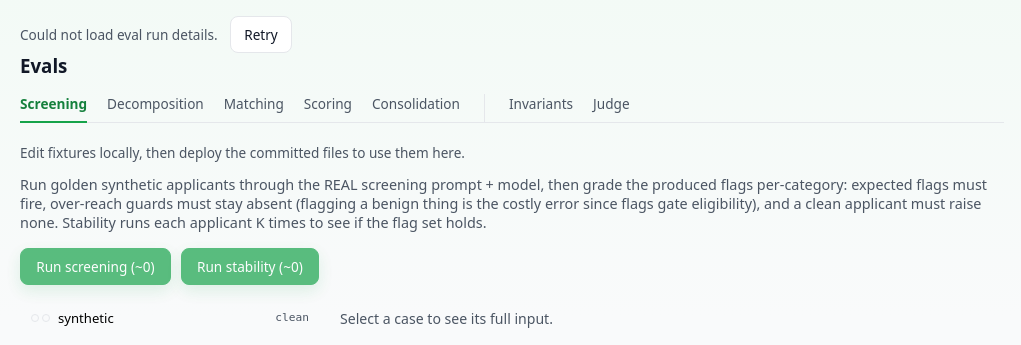
Test: keeps paid controls unavailable when run details fail and offers Retry
The image size is (1021, 345).
Expected: the text "Could not load eval run details." is shown, [20,25,218,44]
Expected: the button "Run screening (~0)" is disabled, [20,248,171,285]
Click the button "Retry" at (261, 34), box [230,16,292,53]
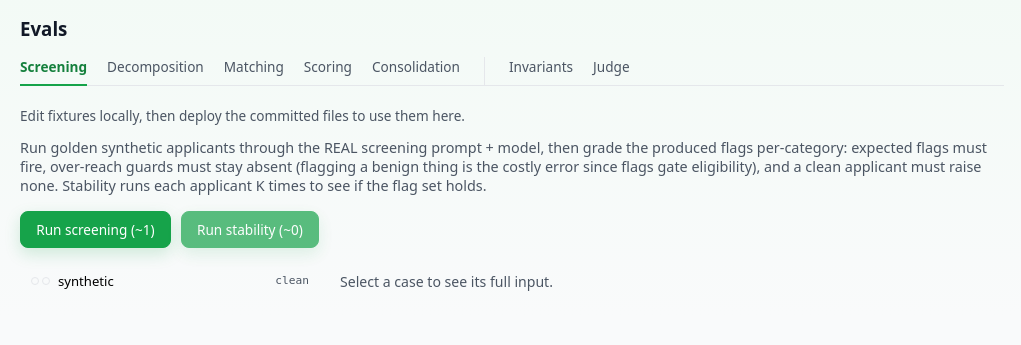
Now the button "Run screening (~1)" is enabled, box [20,211,171,248]
